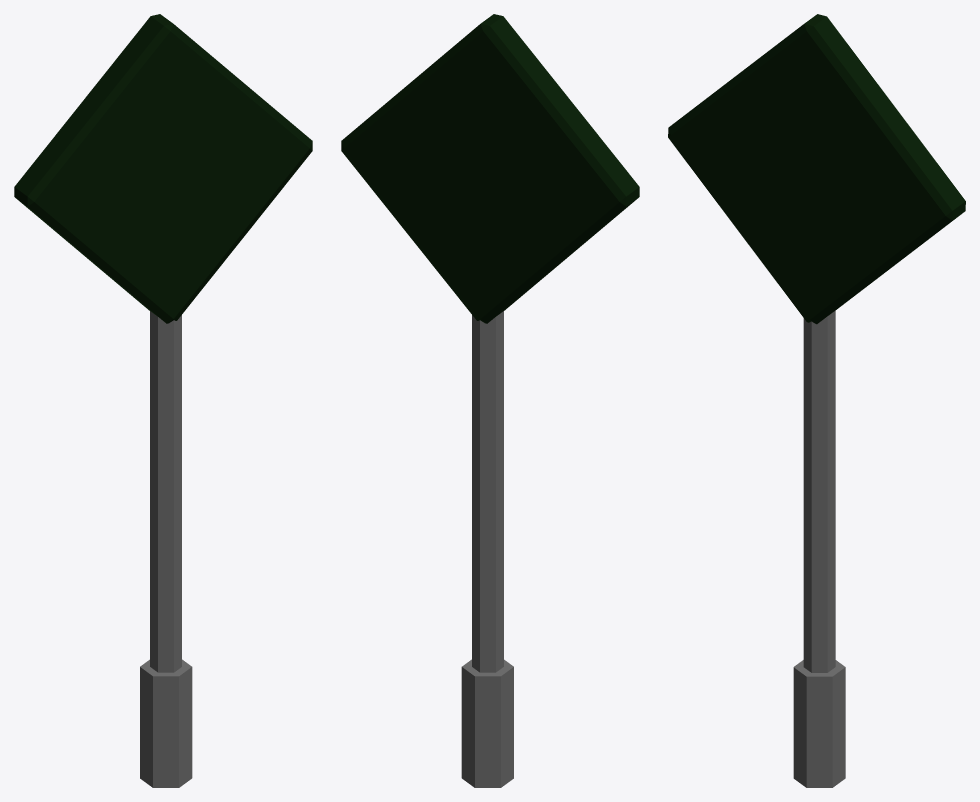
File: SignBoard_02.obj
3 renders of one model, left to right at view 1: azimuth 30°, elevation 25°; view 2: azimuth 150°, elevation 25°; view 3: azimuth 330°, elevation 25°, orthographic.
Parts seen in each view (by area): view 1: SignBoard_02_Cylinder.011; view 2: SignBoard_02_Cylinder.011; view 3: SignBoard_02_Cylinder.011.
Part boxes in pixels (x1,y1,x2,y2): SignBoard_02_Cylinder.011: (14,14,312,787); SignBoard_02_Cylinder.011: (341,14,639,787); SignBoard_02_Cylinder.011: (668,14,965,787).
Bounding box in the file's own units: 6.95 × 17.68 × 1.1.
